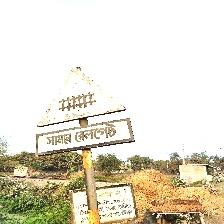Rail-crossing: (36, 67, 133, 155)
